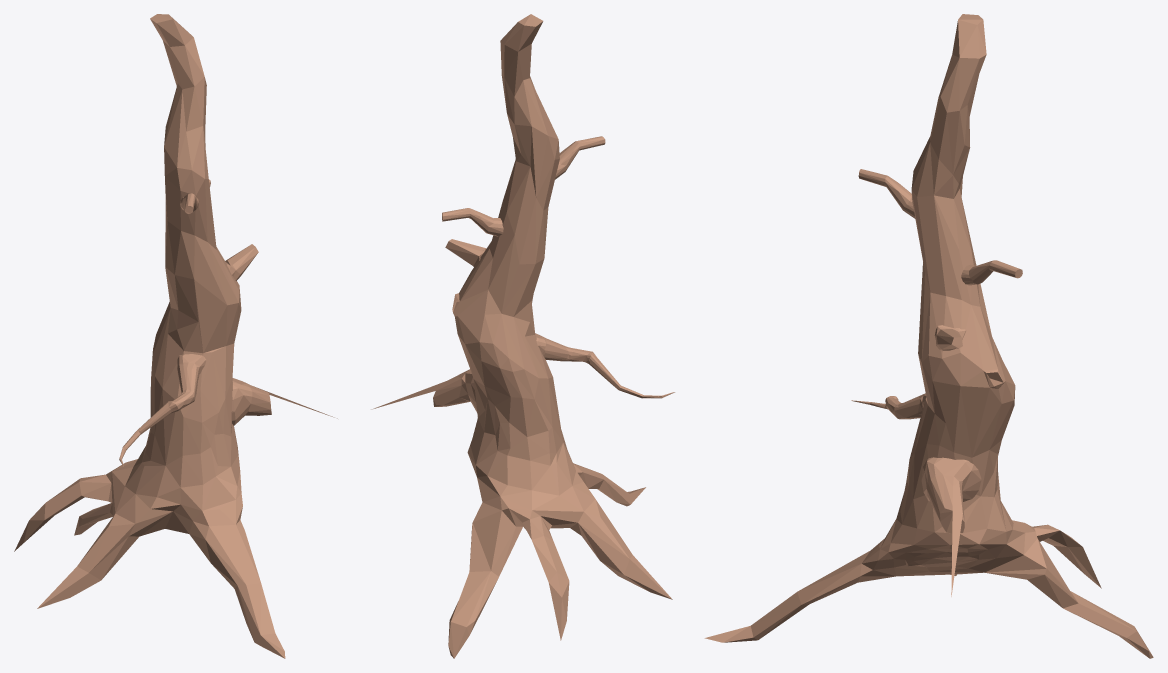
File: fir_tree_7.fbx
3 views of the same model, side by side, from view 1: azimuth 30°, elevation 25°; view 2: azimuth 150°, elevation 25°; view 3: azimuth 270°, elevation 25° (orthographic). The views are drawn at different scales.
Visible parts, largest first — view 1: fir_tree_trunk_7_LOD0; view 2: fir_tree_trunk_7_LOD0; view 3: fir_tree_trunk_7_LOD0.
Part boxes in pixels (x1,y1,x2,y2): fir_tree_trunk_7_LOD0: (14,14,337,658); fir_tree_trunk_7_LOD0: (371,14,674,658); fir_tree_trunk_7_LOD0: (704,14,1153,658).
Size of what is drawn, in the model's own units: 8.16 by 14.81 by 9.37.
